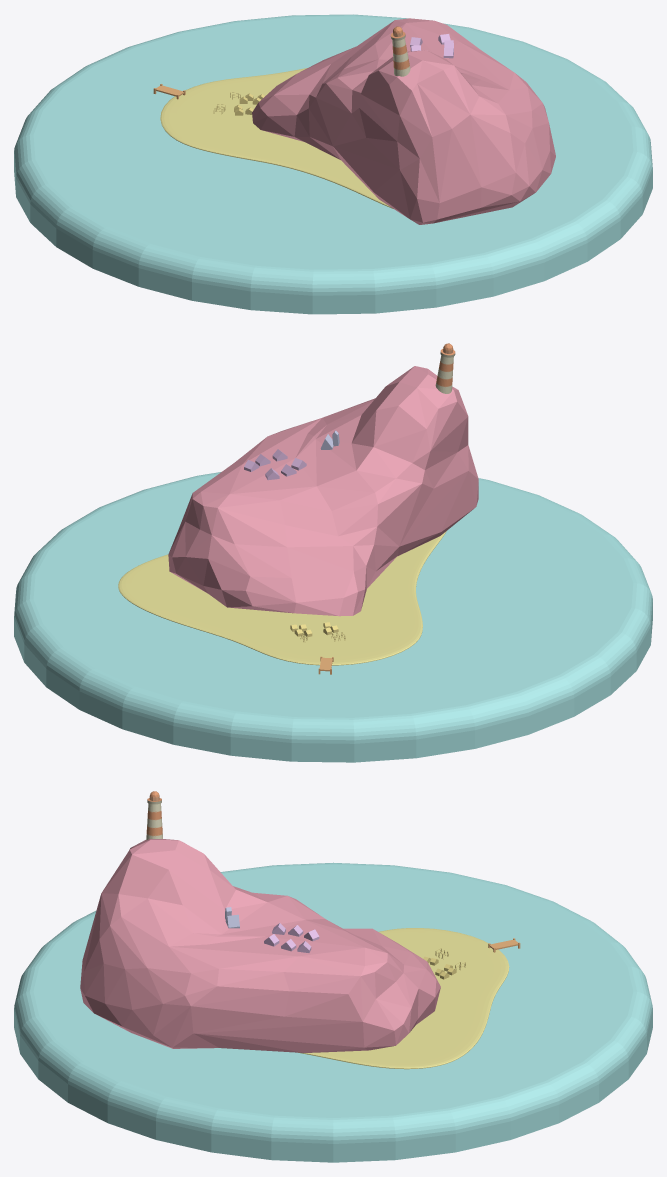
The model's file is islandOutline.glb.
3 views of the same model, one above another, from view 1: azimuth 30°, elevation 25°; view 2: azimuth 150°, elevation 25°; view 3: azimuth 270°, elevation 25° (orthographic).
Visible parts, largest first — view 1: ocean, island, beach, lighthouse, fishermenVillage, houses; view 2: ocean, island, beach, houses, lighthouse; view 3: ocean, island, beach, houses, lighthouse.
Part boxes in pixels (x1,y1,x2,y2): ocean: [14, 14, 652, 314]; island: [252, 18, 555, 224]; beach: [160, 68, 393, 208]; lighthouse: [390, 26, 410, 76]; fishermenVillage: [213, 92, 264, 115]; houses: [410, 34, 453, 58]; ocean: [14, 472, 652, 762]; island: [168, 366, 478, 616]; beach: [118, 531, 446, 665]; houses: [244, 449, 306, 480]; lighthouse: [435, 343, 455, 393]; ocean: [14, 862, 652, 1162]; island: [80, 839, 440, 1052]; beach: [298, 928, 509, 1069]; houses: [264, 923, 319, 952]; lighthouse: [146, 791, 162, 840].
Bounding box in the file's own units: 25.02 × 9.67 × 25.02.
8 materials, 1 textured.
